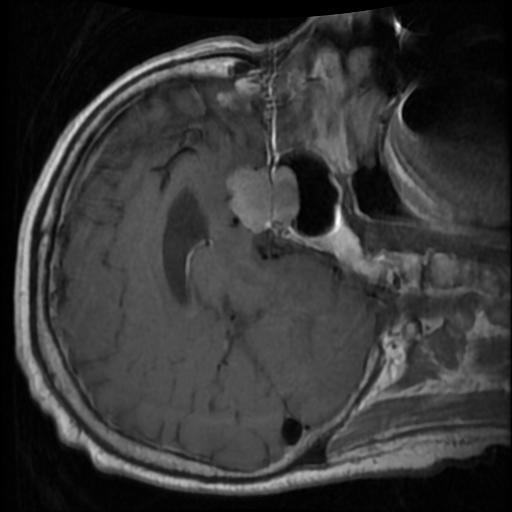pituitary tumour: (227, 165, 299, 232)
